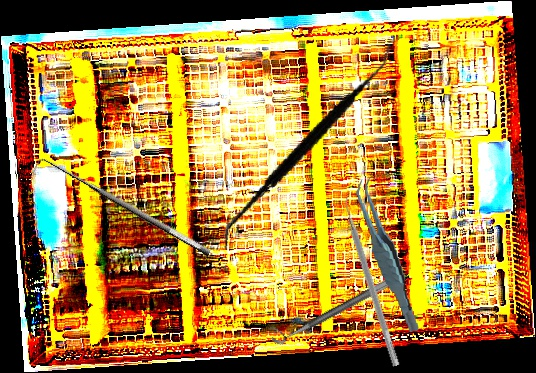Fixation Ring: (266, 263, 401, 348)
Hook Surgical: (31, 151, 213, 270)
Spatula Surgical: (220, 21, 395, 272), (338, 194, 407, 367)
Tissue Forceps: (354, 173, 420, 337)
